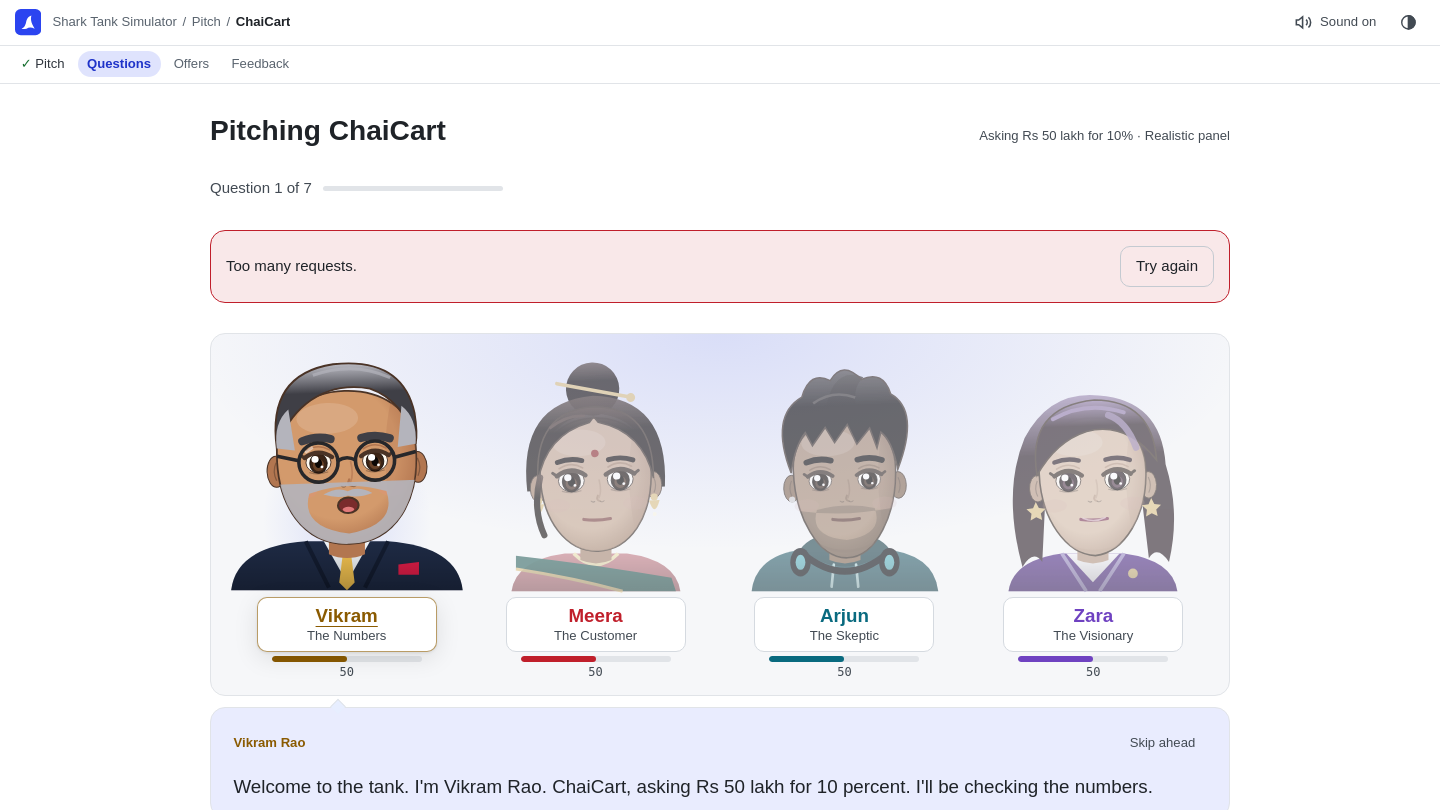
Tank (whole game flow, API mocked) › shows an error with a retry that repeats the same request
Check: the message "Too many requests. Try again" is shown, box [210, 230, 1230, 303]
Click the button "Try again".
click(1167, 266)  # box [1120, 246, 1214, 287]
(page scrolled)
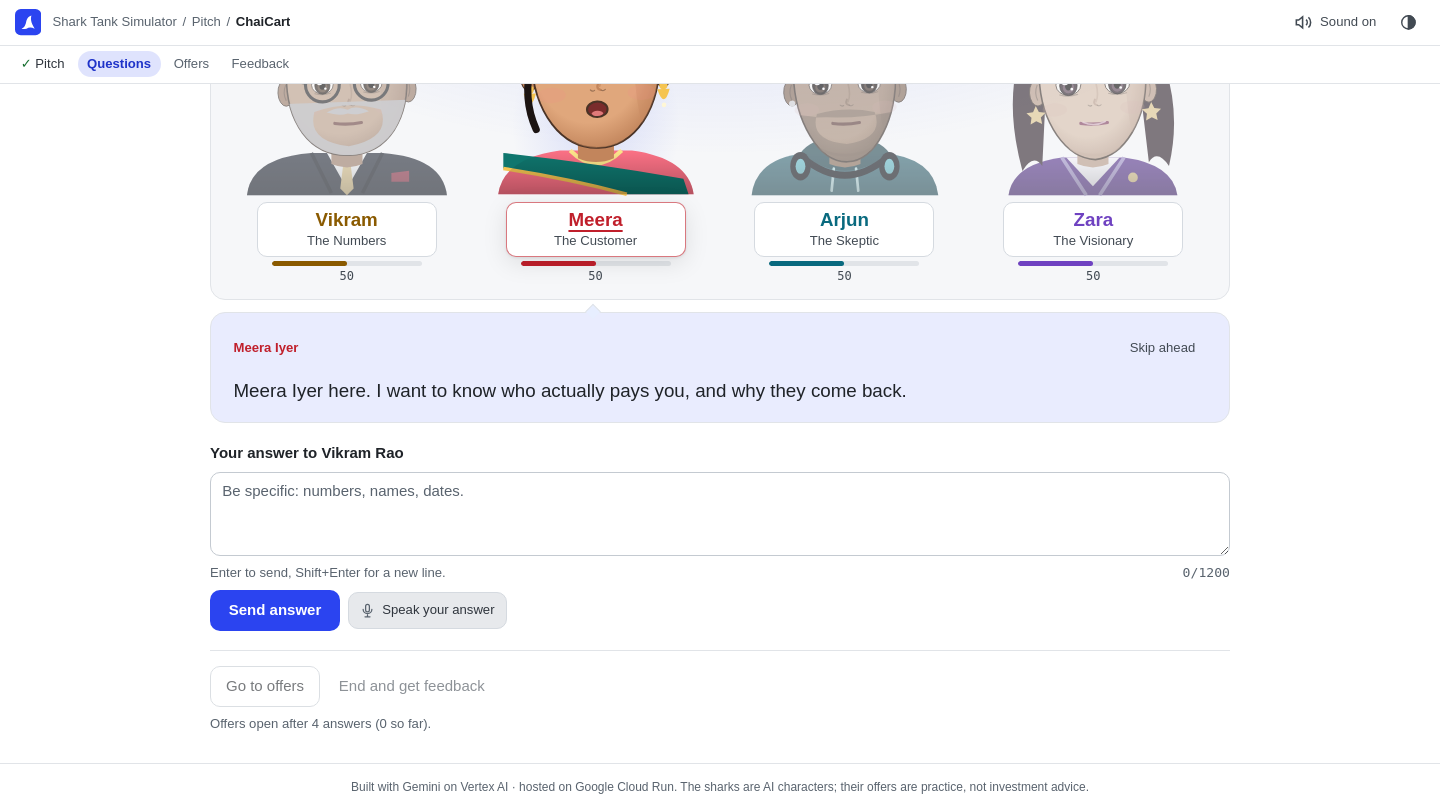
Check: the text box labelled "Your answer to Vikram Rao" is shown, box [210, 472, 1230, 556]
